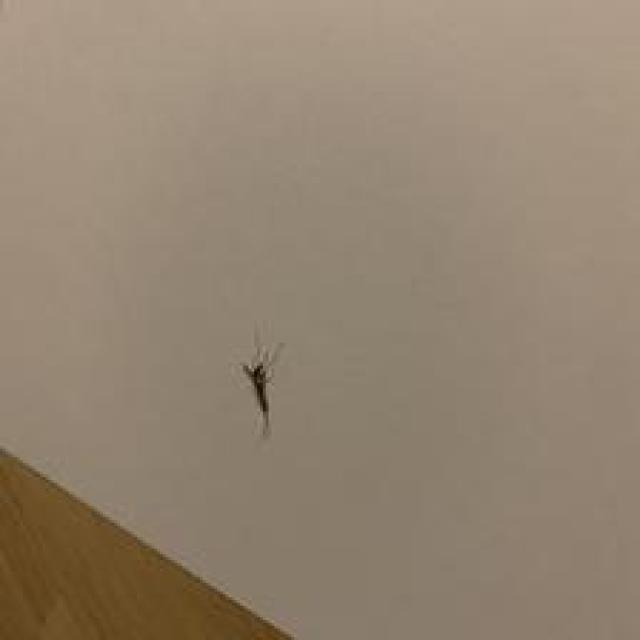Culex: (240, 337, 286, 437)
